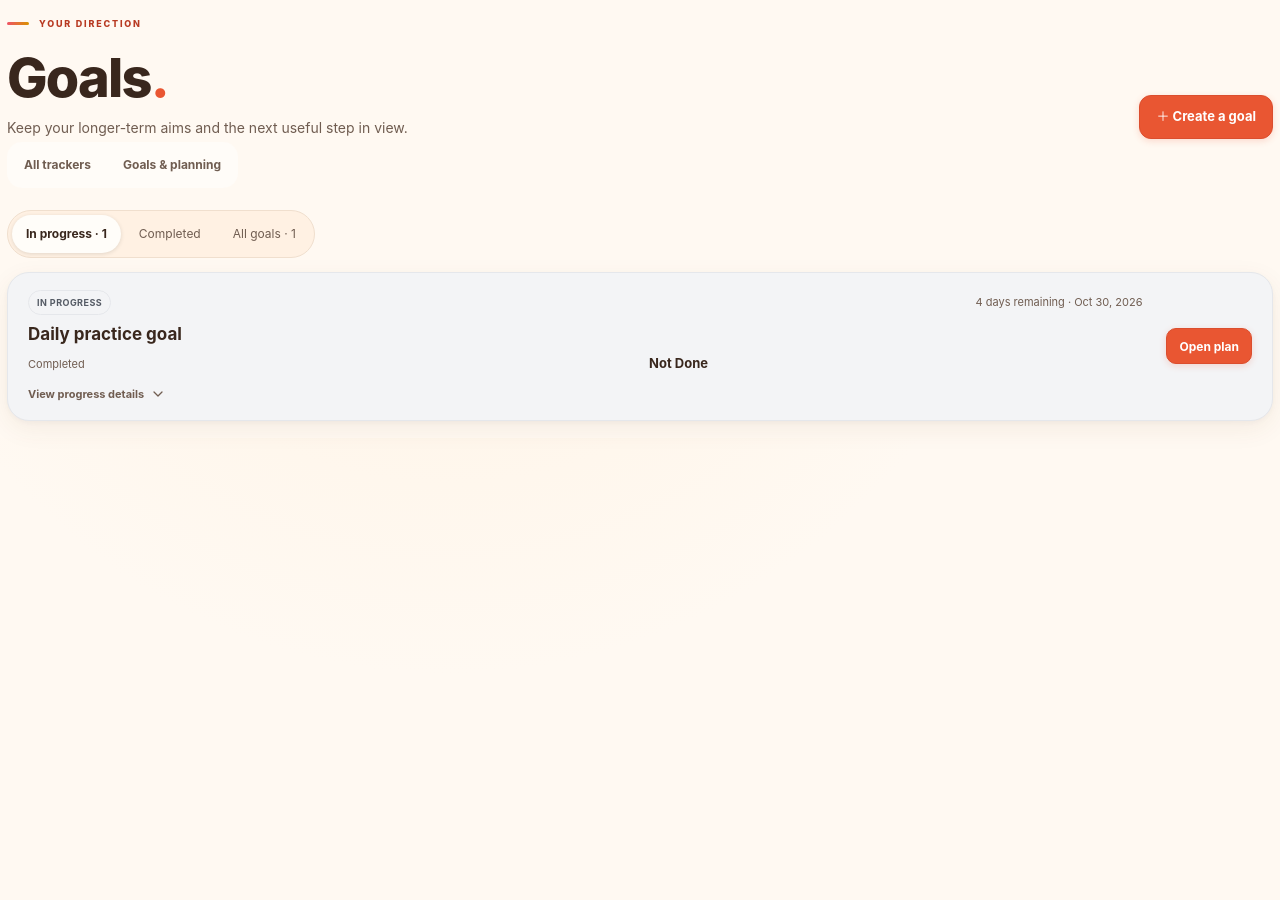
Test: Goals page allocation preview › shows Boolean values as Done / Not Done while keeping the goal state wording
Click the button "Daily practice goal".
click(585, 346)  # box [8,272,1162,420]
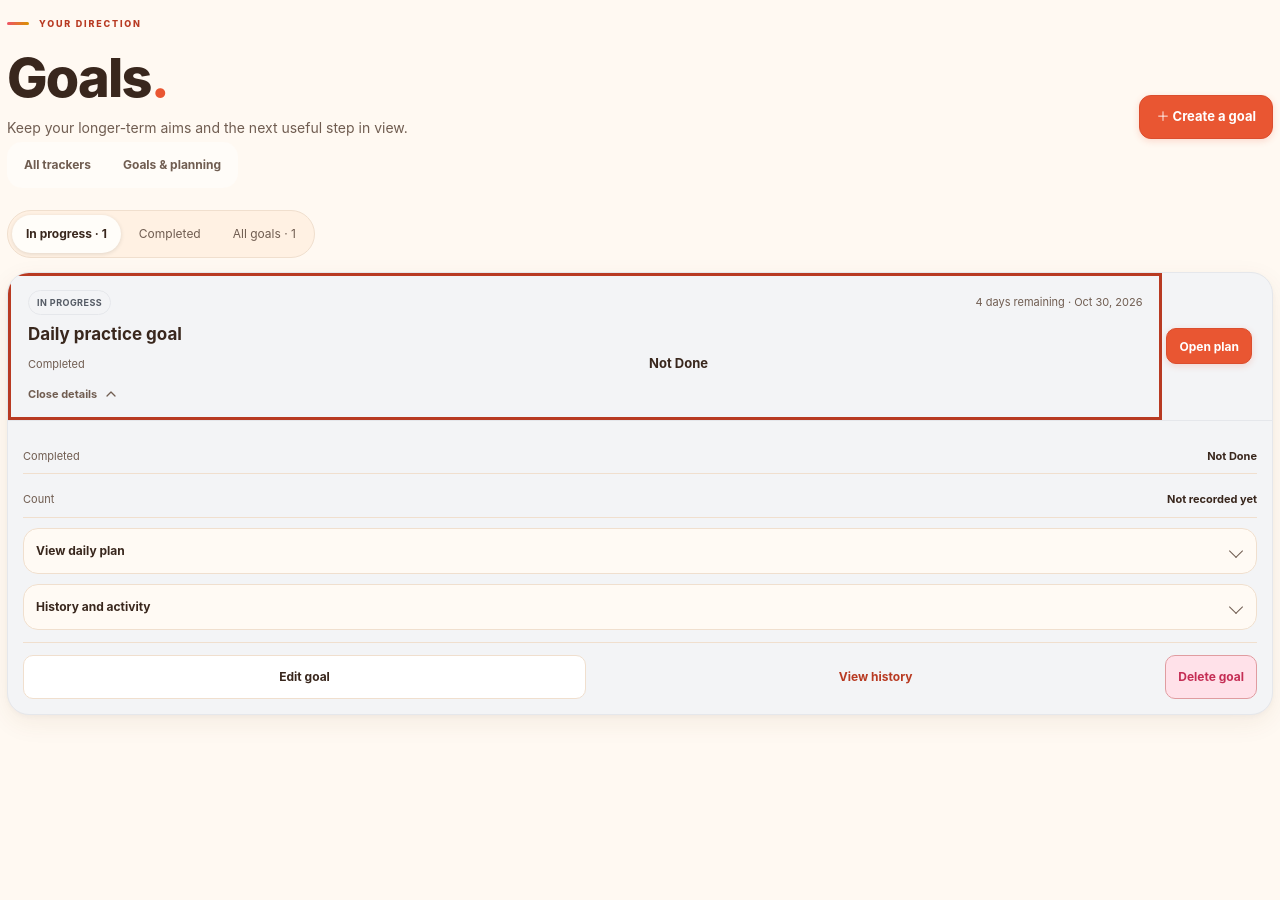
Now the list named "Daily practice goal measures" shows "Not Done", box [1207,449,1257,463]
